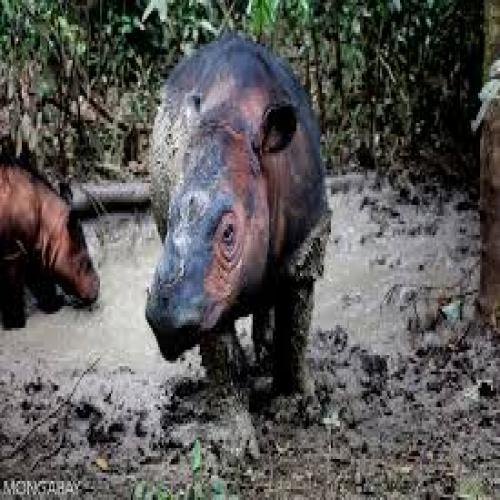rhino-endangered: (147, 39, 327, 399), (0, 165, 100, 315)
